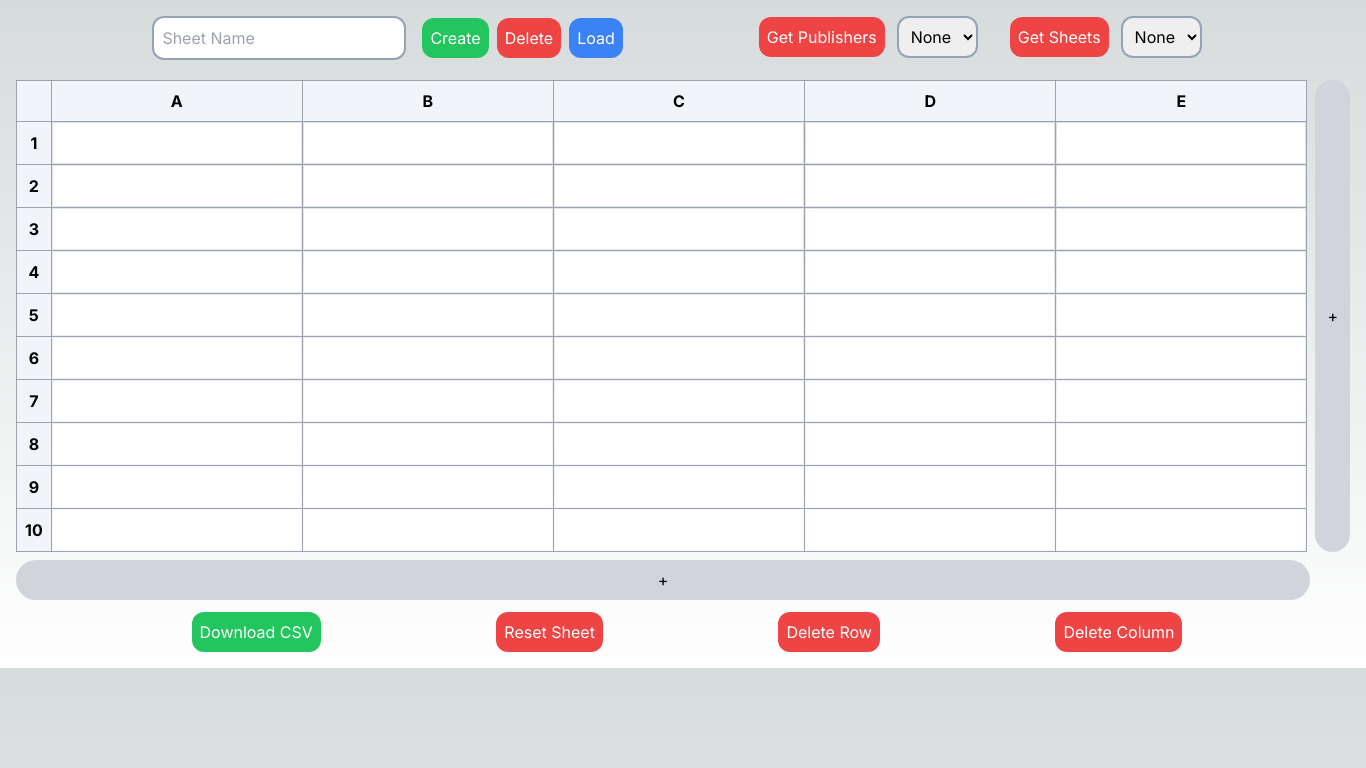
Scenario: Spreadsheet › adds a column when Add Column button is clicked
This screenshot has width=1366, height=768.
Click the button "+" in the row of "10" at (1333, 316), box [1315, 80, 1350, 552]
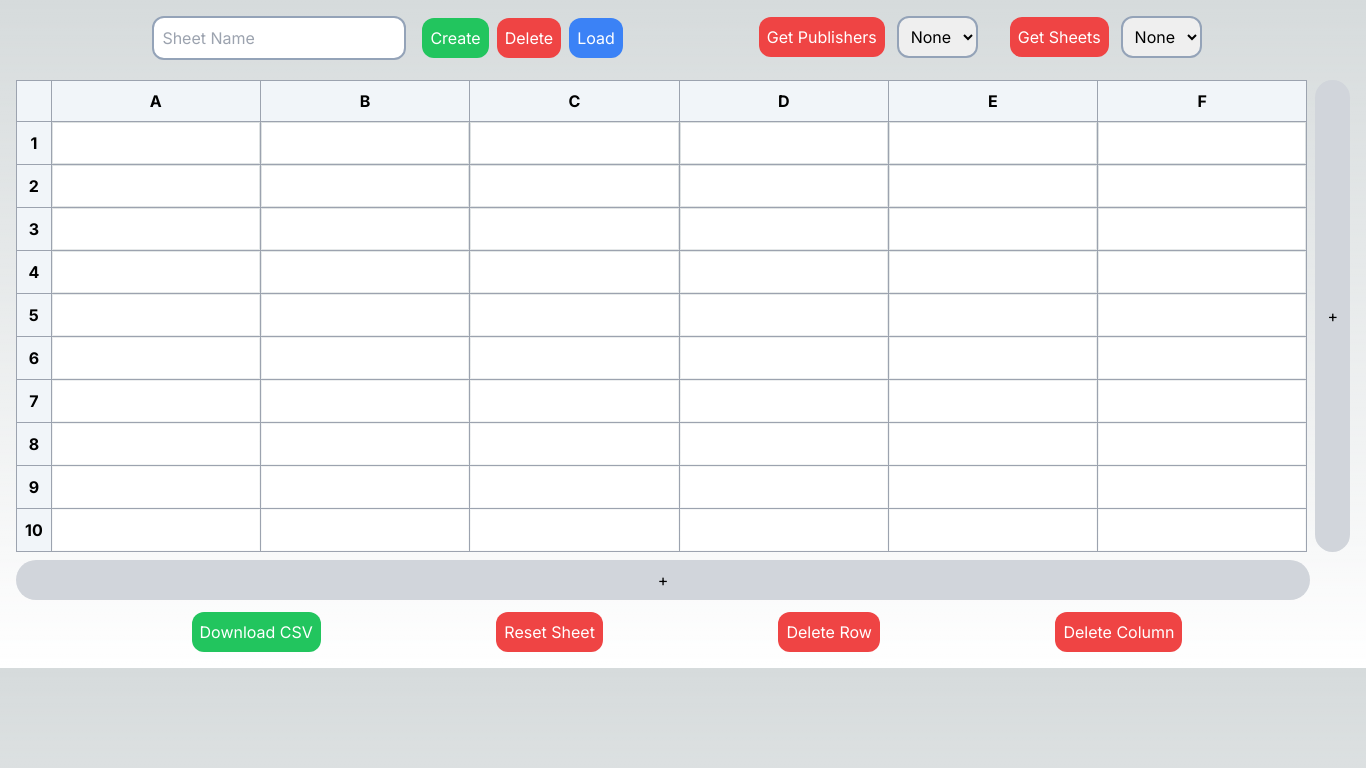
Result: the number of column headings is 7
